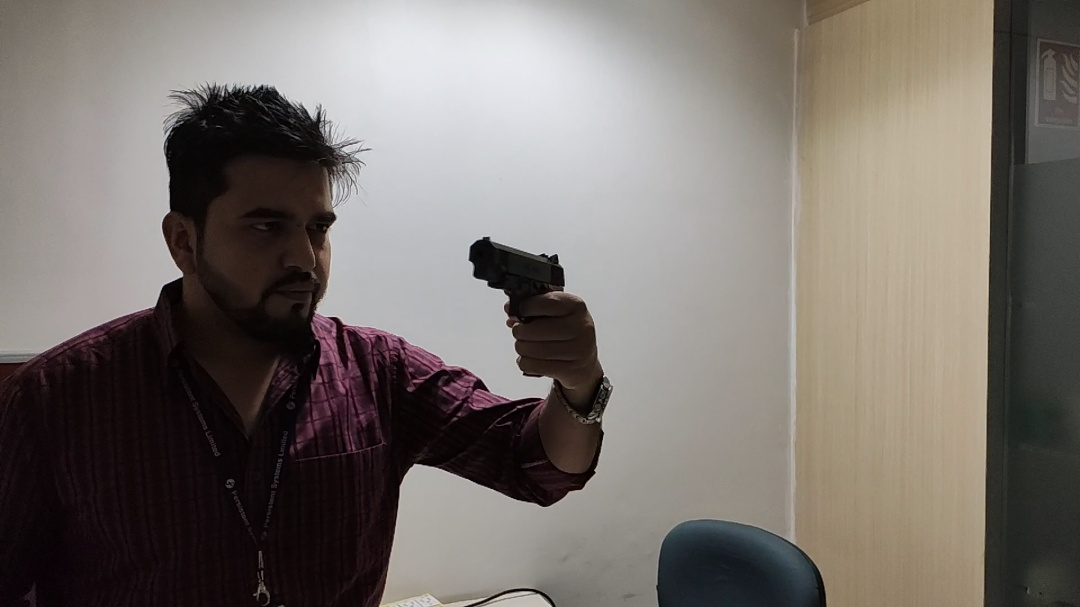gun: (465, 234, 570, 385)
